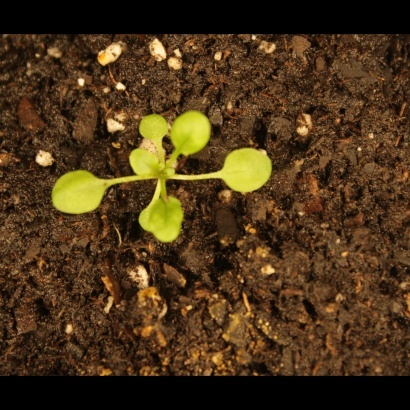leaf: (217, 147, 277, 198), (49, 171, 110, 219), (146, 193, 198, 245), (171, 107, 214, 160), (135, 109, 174, 145), (126, 146, 164, 179), (135, 202, 167, 241)
